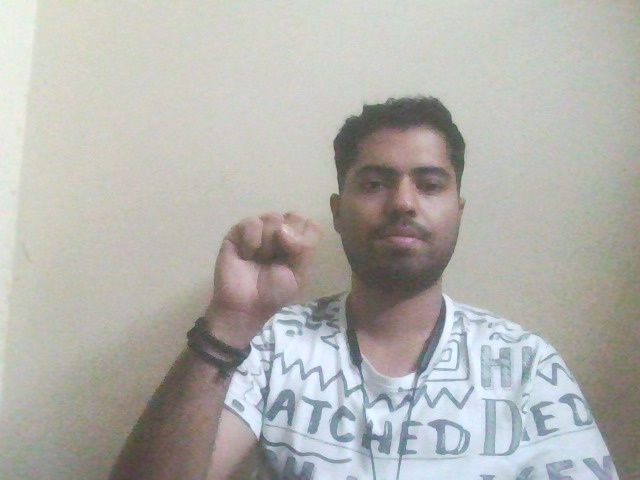W: (176, 195, 356, 336)
